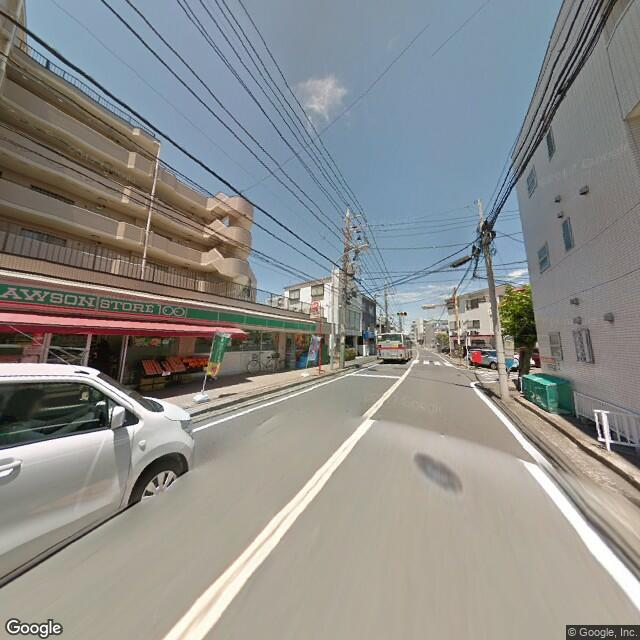lawson: (1, 279, 318, 337)
